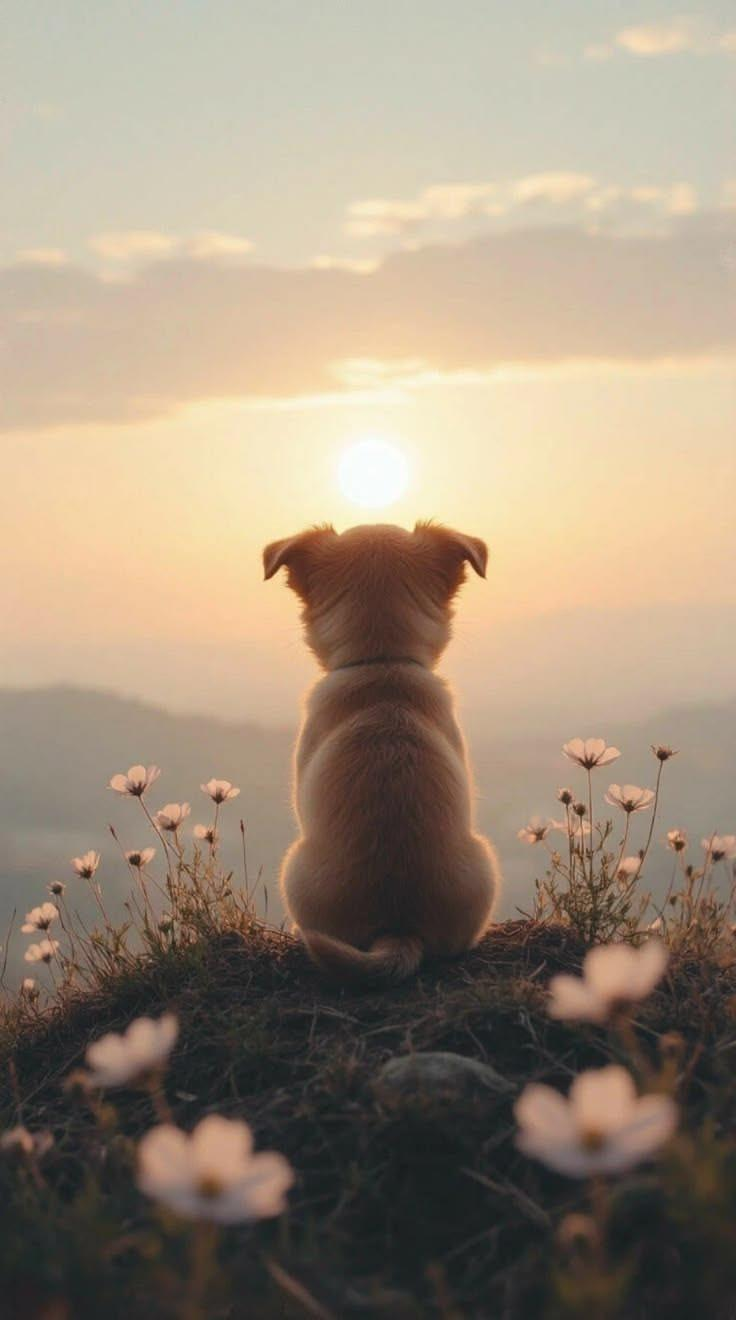puppy-dog: (260, 519, 502, 985)
